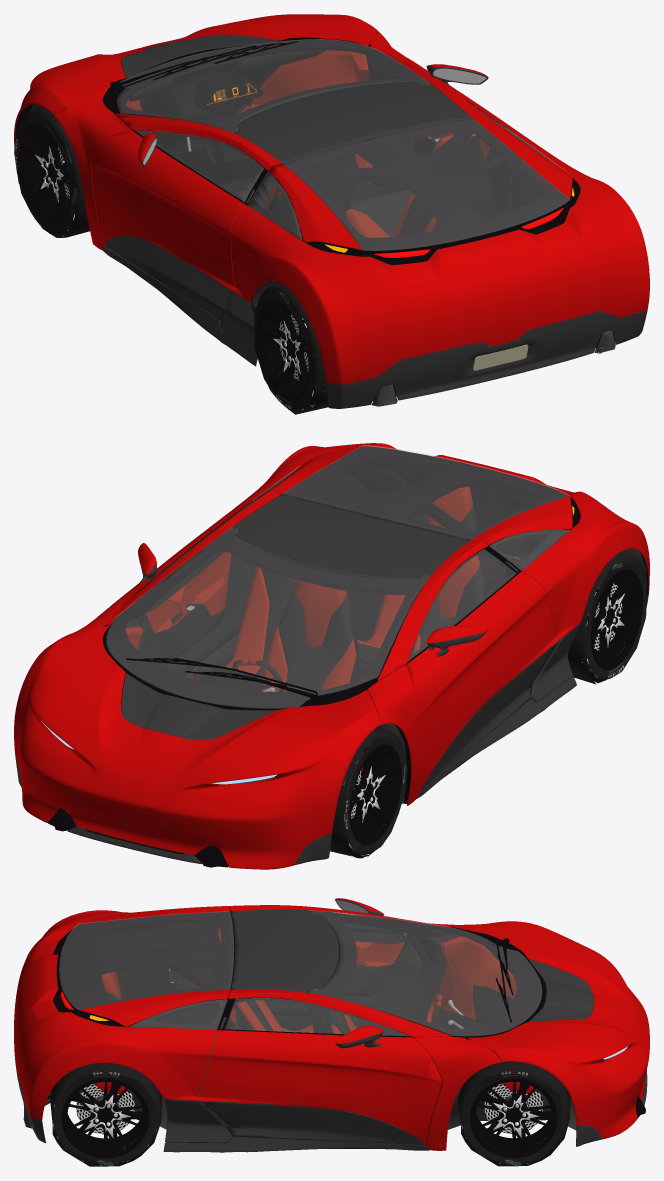
Rendered from car.glb.
The picture shows the model from 3 angles, top to bottom: view 1: azimuth 30°, elevation 25°; view 2: azimuth 150°, elevation 25°; view 3: azimuth 270°, elevation 25°; orthographic projection. The views are drawn at different scales.
Parts seen in each view (by area): view 1: BodyRearPanelsColor1, BodyRearwindow, BodyWindshield, BodyDoorLColor1, BodyPanelsColor2, BodyRoofPanel, BodyHood, InteriorRearHatch, BodyPillars, InteriorPillar, InteriorDashMid, BodyWindshieldGasket (+22 smaller); view 2: BodyHood, BodyWindshield, BodyRearwindow, BodyDoorLColor1, BodyRearPanelsColor1, BodyRoofPanel, BodyWindshieldGasket, InteriorSeatsColor1, InteriorSeatsColor2, BodyPillars, InteriorPillar, InteriorRearHatch (+21 smaller); view 3: BodyWindshield, BodyRearPanelsColor1, BodyDoorRColor1, BodyHood, BodyRearwindow, BodyRoofPanel, BodyPillars, BodyWindshieldGasket, BodyDoorRColor2, BodyPanelsColor2, InteriorRearHatch, WheelRearRRim (+25 smaller).
Part boxes in pixels (x1,y1,x2,y2): BodyRearPanelsColor1: (230, 114, 649, 384); BodyRearwindow: (283, 117, 569, 250); BodyWindshield: (117, 39, 429, 132); BodyDoorLColor1: (91, 130, 246, 290); BodyPanelsColor2: (18, 178, 647, 408); BodyRoofPanel: (233, 81, 471, 163); BodyHood: (14, 14, 380, 148); InteriorRearHatch: (271, 118, 569, 255); BodyPillars: (53, 32, 485, 250); InteriorPillar: (238, 119, 486, 229); InteriorDashMid: (125, 46, 326, 165); BodyWindshieldGasket: (102, 38, 429, 132); BodyHood: (14, 626, 381, 869); BodyWindshield: (106, 527, 430, 708); BodyRearwindow: (283, 445, 569, 539); BodyDoorLColor1: (407, 571, 559, 790); BodyRearPanelsColor1: (236, 443, 649, 638); BodyRoofPanel: (233, 494, 470, 578); BodyWindshieldGasket: (102, 528, 430, 710); InteriorSeatsColor1: (191, 486, 479, 692); InteriorSeatsColor2: (194, 507, 484, 692); BodyPillars: (68, 490, 488, 805); InteriorPillar: (231, 466, 506, 596); InteriorRearHatch: (283, 446, 570, 546); BodyWindshield: (307, 910, 541, 1035); BodyRearPanelsColor1: (14, 906, 229, 1120); BodyDoorRColor1: (198, 1030, 442, 1145); BodyHood: (468, 921, 649, 1138); BodyRearwindow: (59, 911, 233, 1009); BodyRoofPanel: (231, 909, 339, 992); BodyPillars: (228, 905, 501, 1150); BodyWindshieldGasket: (307, 911, 546, 1037); BodyDoorRColor2: (198, 1101, 424, 1145); BodyPanelsColor2: (14, 1051, 647, 1152); InteriorRearHatch: (60, 911, 234, 1026); WheelRearRRim: (61, 1078, 149, 1158).
Size of the model in its own units: 2.21 by 1.09 by 4.12.
Materials: 23 (5 with a texture image).
